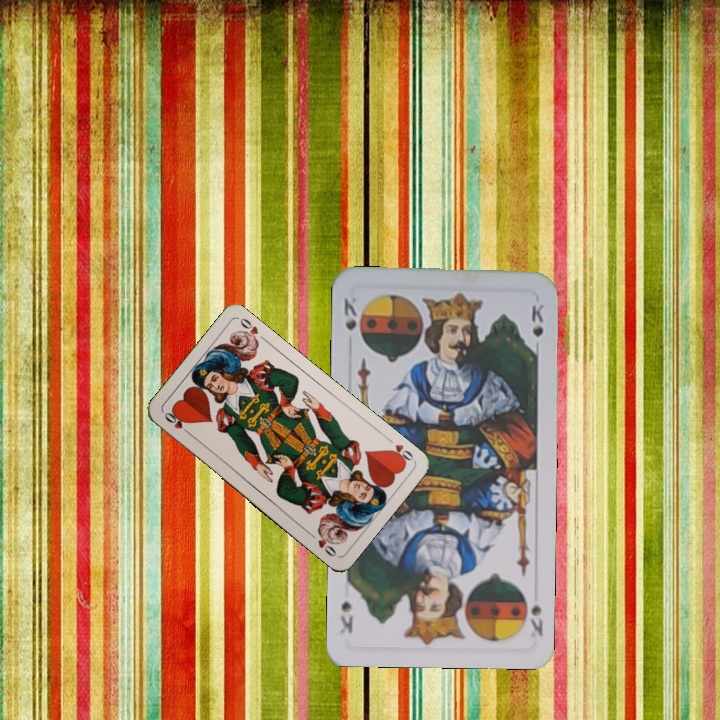HO: (382, 433, 416, 467), (160, 408, 194, 438)
SK: (340, 293, 360, 333), (526, 601, 545, 639)
